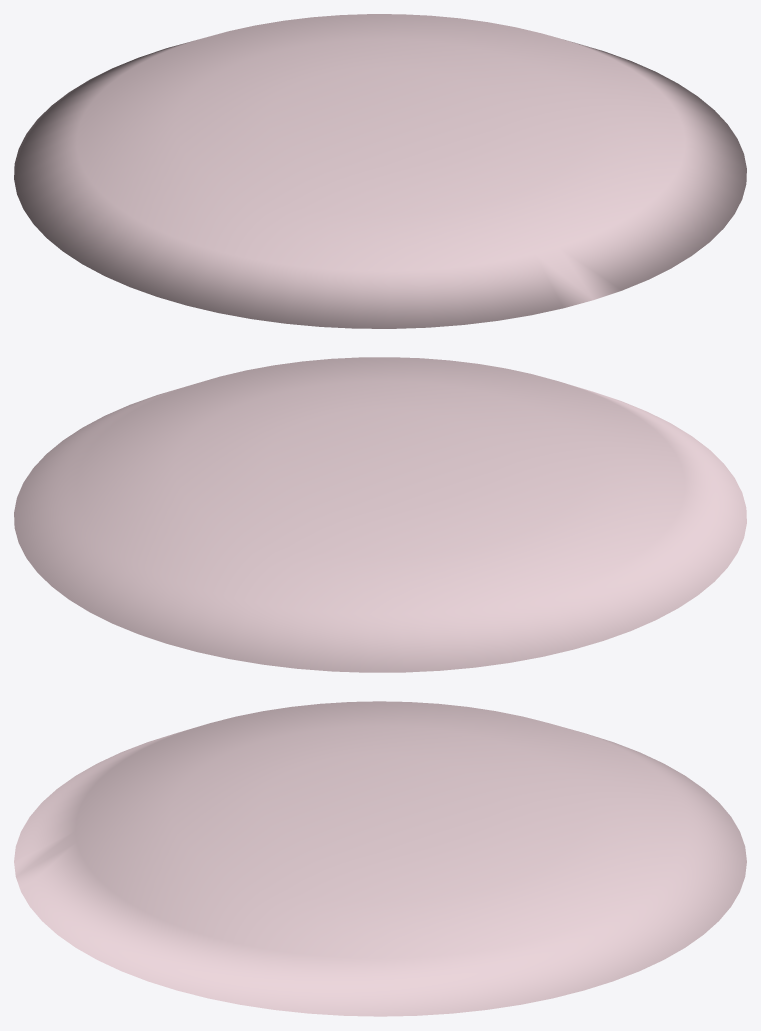
File: Cil2.fbx
3 renders of one model, top to bottom at view 1: azimuth 30°, elevation 25°; view 2: azimuth 150°, elevation 25°; view 3: azimuth 270°, elevation 25°, orthographic.
Visible parts, largest first — view 1: Cylinder2; view 2: Cylinder2; view 3: Cylinder2.
Part boxes in pixels (left/top/right/bottom): Cylinder2: left=14, top=14, right=746, bottom=328; Cylinder2: left=14, top=357, right=746, bottom=672; Cylinder2: left=14, top=701, right=746, bottom=1016.
Size of the model in its own units: 1600 by 140 by 1600.
